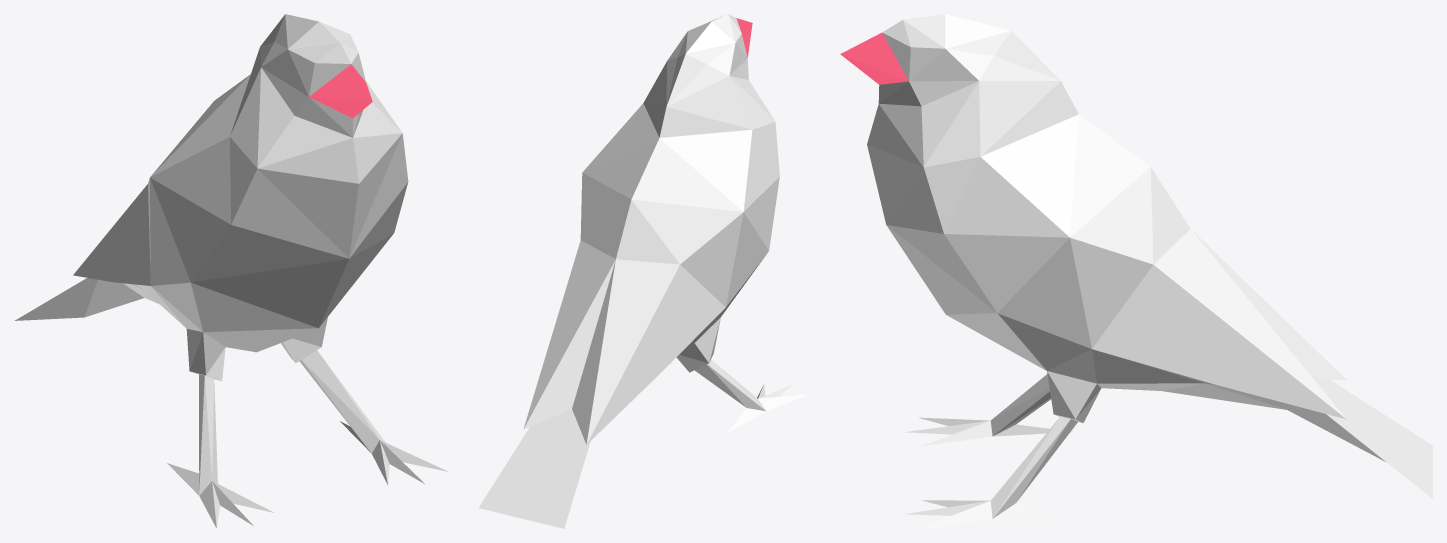
File: bird.glb
3 views of the same model, side by side, from view 1: azimuth 30°, elevation 25°; view 2: azimuth 150°, elevation 25°; view 3: azimuth 270°, elevation 25° (orthographic). The views are drawn at different scales.
Visible parts, largest first — view 1: Plane; view 2: Plane; view 3: Plane.
Boxes of the visible parts, <box> form: Plane: <box>14,14,448,528</box>; Plane: <box>479,14,810,528</box>; Plane: <box>840,14,1432,528</box>.
Size of the model in its own units: 0.0727 by 0.1398 by 0.1635.
